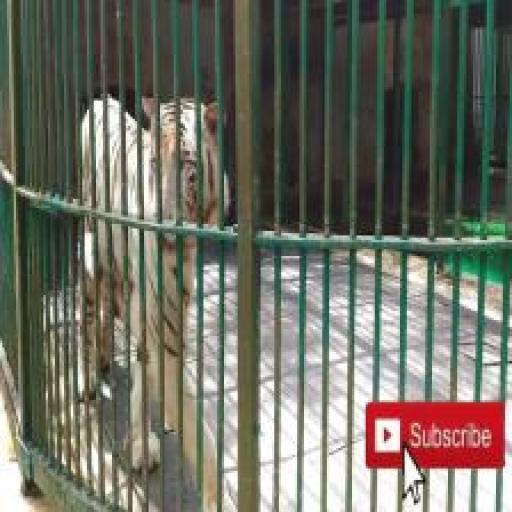Tiger: (64, 41, 245, 512)
